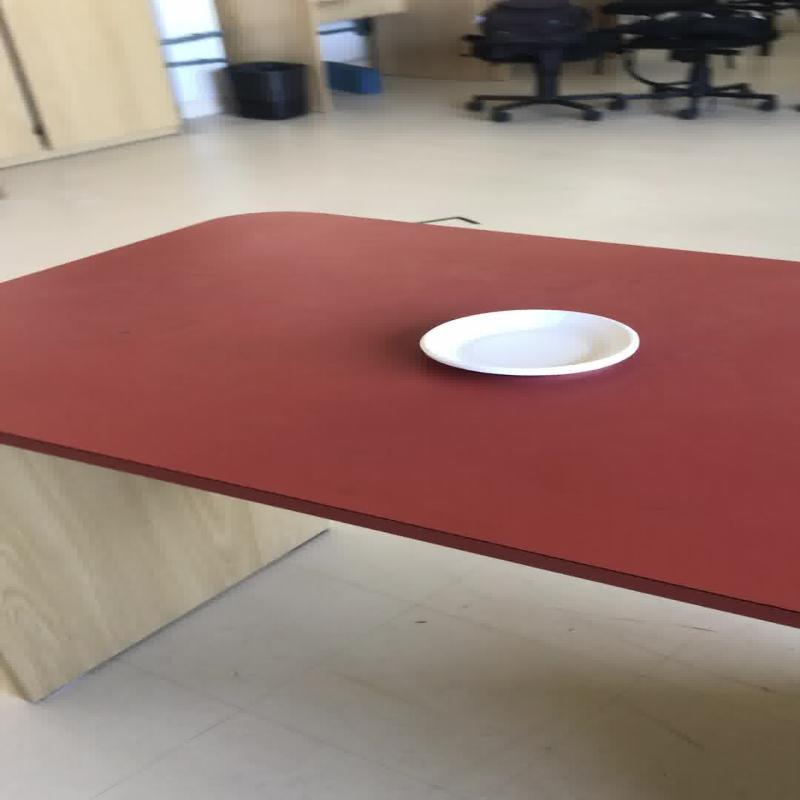plate: (418, 307, 638, 376)
